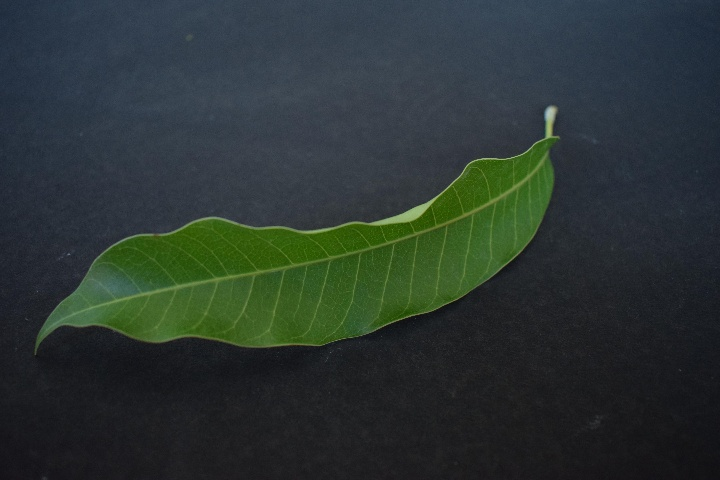healthy: (63, 140, 580, 362)
